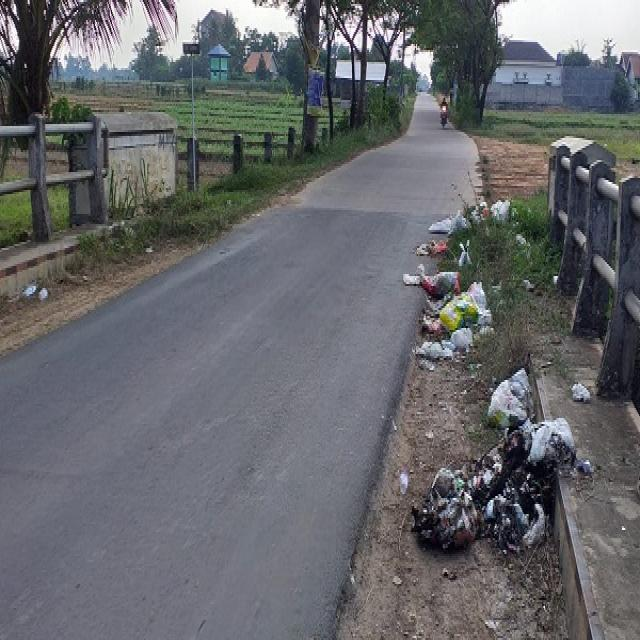trash: (394, 190, 597, 577)
